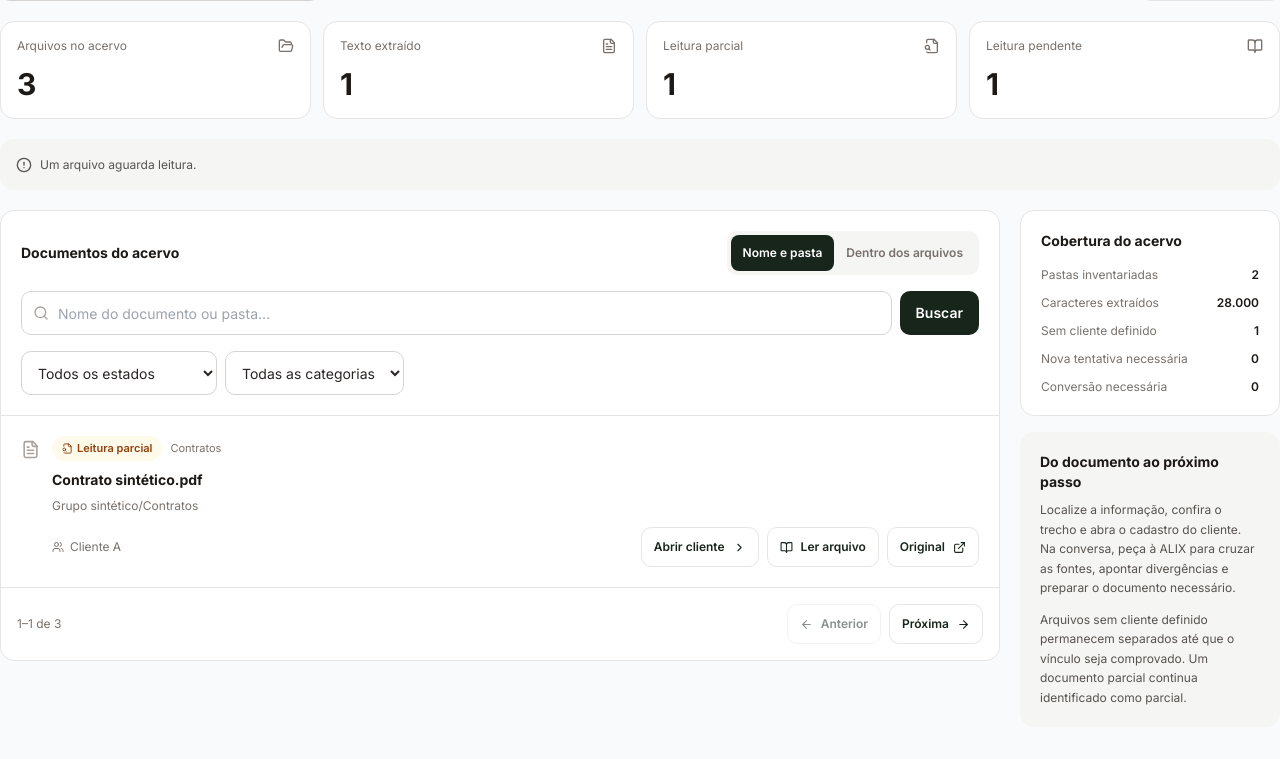
Drive e dados na ALIX › leitura paginada mantém cliente, origem e cursor sem concatenar arquivos
(page scrolled)
Click the button "Ler arquivo" at [823, 547], box [767, 527, 879, 567]
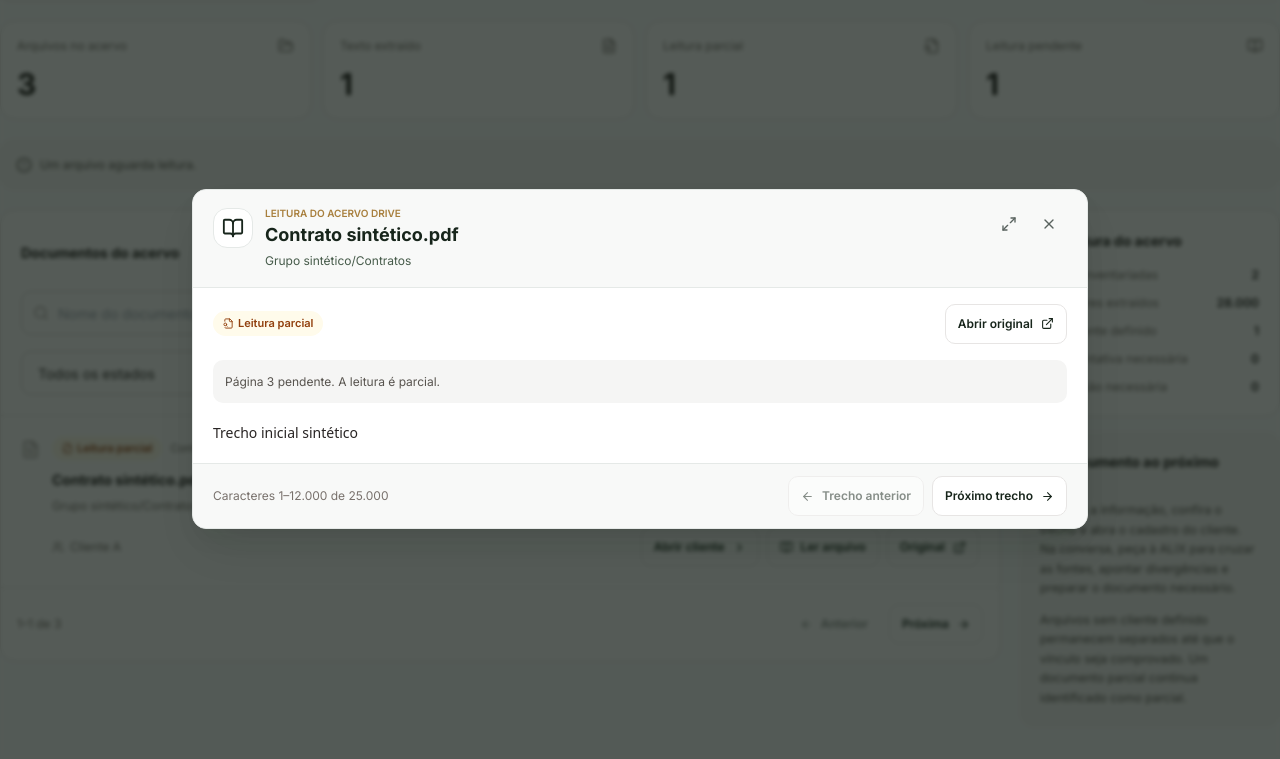
Expected: the text "Trecho inicial sintético" is shown, [213, 423, 358, 442]
Expected: the text "Página 3 pendente" is shown, [225, 374, 440, 389]
Click the button "Próximo trecho" at [1000, 496], box [932, 476, 1067, 516]
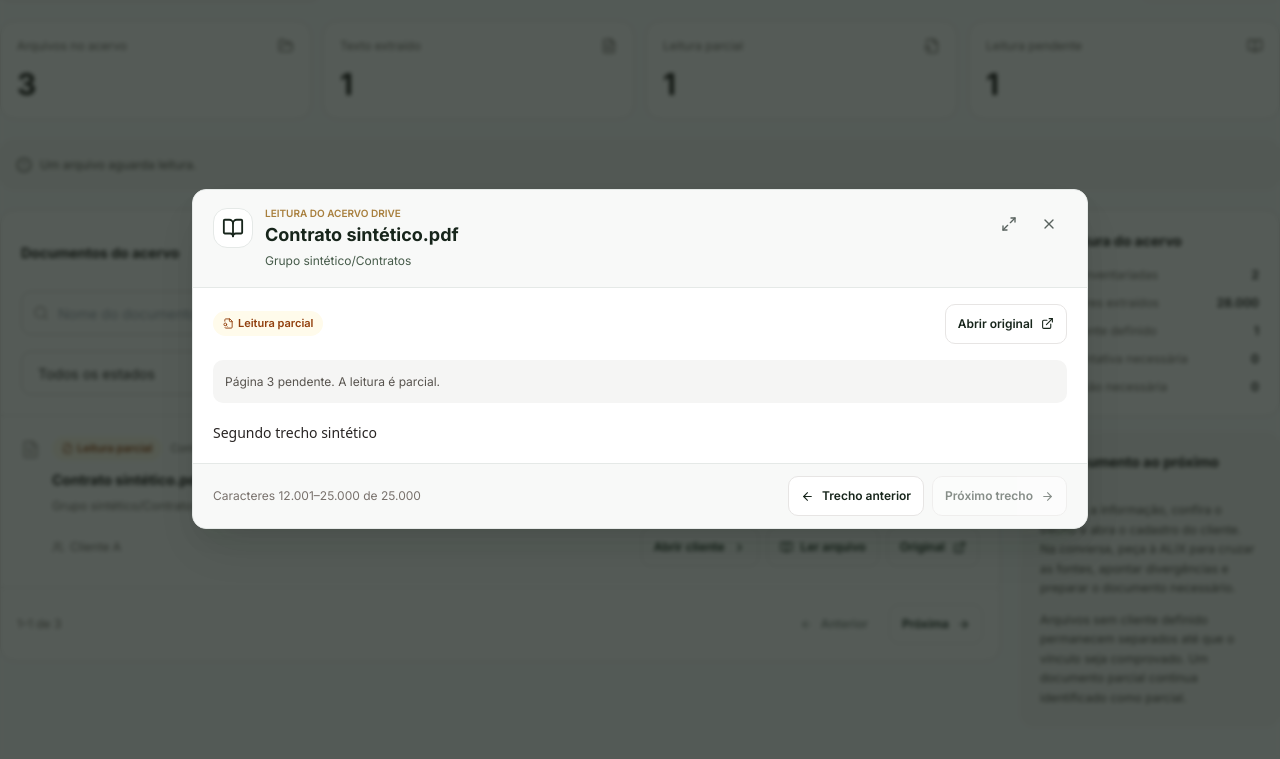
Expected: the text "Segundo trecho sintético" is shown, [213, 423, 377, 442]
Expected: the text "Trecho inicial sintético" is gone
Expected: the button "Próximo trecho" is disabled, [932, 476, 1067, 516]
